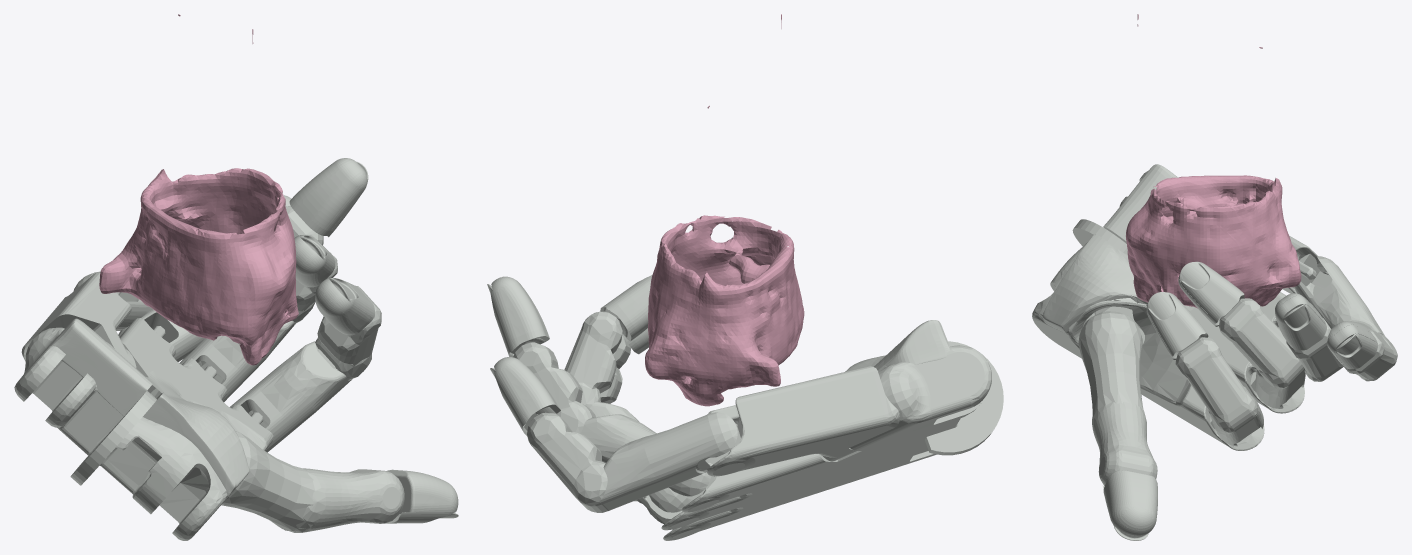
3 views of the same model, side by side, from view 1: azimuth 30°, elevation 25°; view 2: azimuth 150°, elevation 25°; view 3: azimuth 270°, elevation 25° (orthographic). The views are drawn at different scales.
Parts seen in each view (by area): view 1: hand, world; view 2: hand, world; view 3: hand, world.
Part boxes in pixels (bbox=[...]): hand: bbox=[14, 158, 458, 540]; world: bbox=[99, 14, 298, 365]; hand: bbox=[487, 275, 1003, 540]; world: bbox=[645, 14, 804, 406]; hand: bbox=[1032, 164, 1397, 540]; world: bbox=[1126, 14, 1301, 308].
Size of the model in its own units: 0.1666 by 0.1992 by 0.1473.
